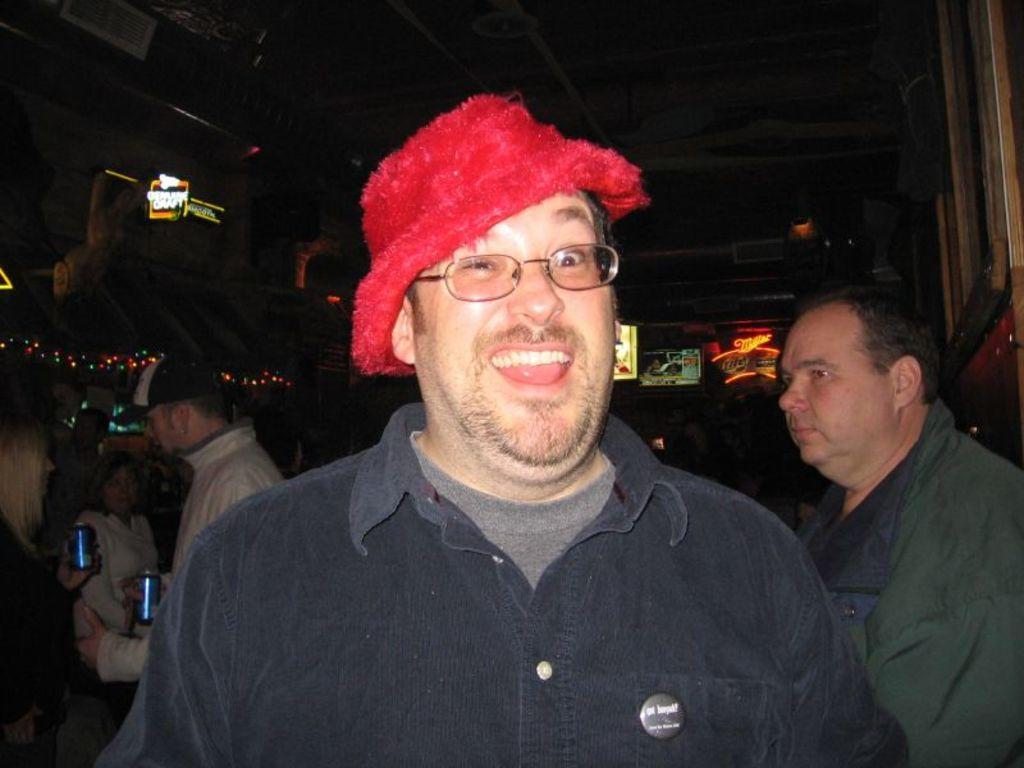Hat: (350, 90, 647, 378), (110, 350, 224, 424)
